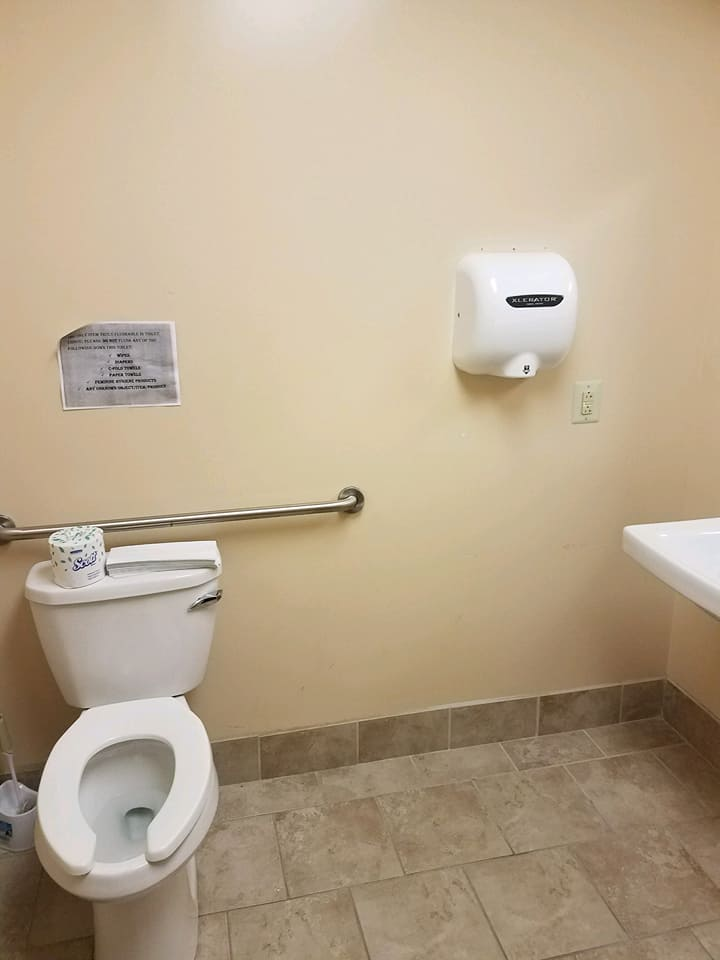dispenser: (444, 245, 581, 390)
restroom_assist_bar: (1, 485, 366, 547)
sink: (622, 513, 720, 620)
toilet: (24, 540, 224, 960)
toilet_handle: (187, 589, 224, 612)
